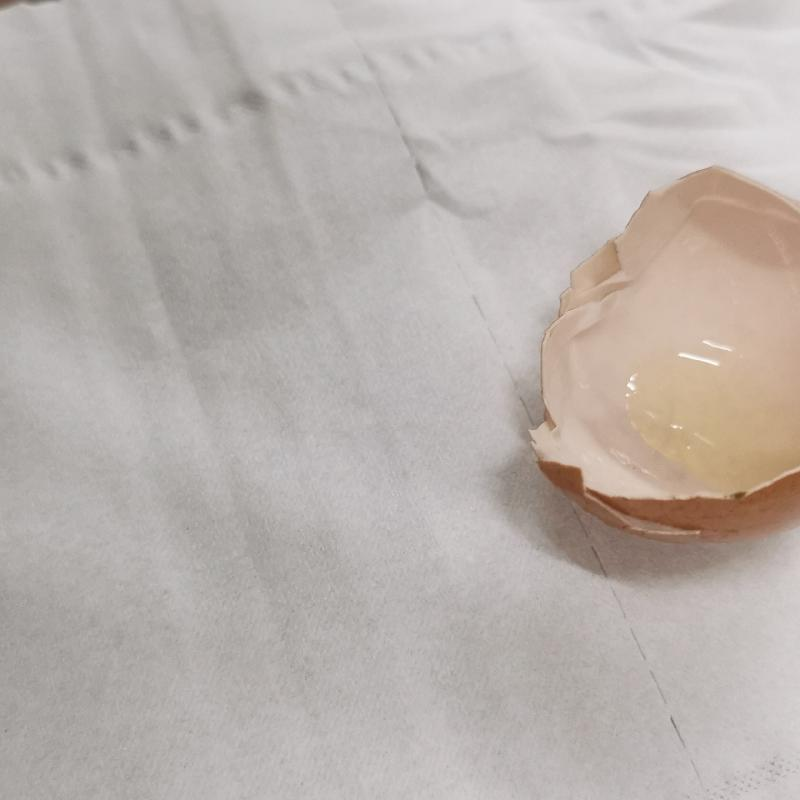eggshell: (527, 170, 800, 546)
